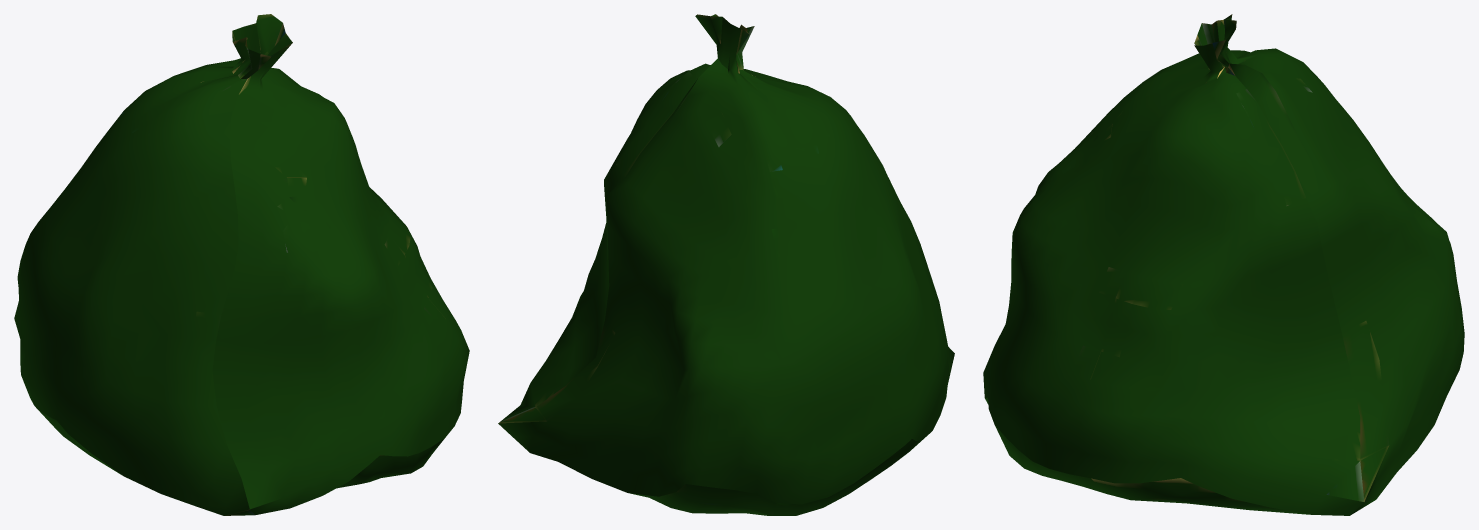
File: Trash3.fbx
3 views of the same model, side by side, from view 1: azimuth 30°, elevation 25°; view 2: azimuth 150°, elevation 25°; view 3: azimuth 270°, elevation 25° (orthographic). The views are drawn at different scales.
Parts seen in each view (by area): view 1: Trash3; view 2: Trash3; view 3: Trash3.
Boxes of the visible parts, <box> form: Trash3: <box>14,14,469,515</box>; Trash3: <box>498,14,954,515</box>; Trash3: <box>983,14,1464,515</box>.
Bounding box in the file's own units: 33.47 × 37.81 × 37.65.
